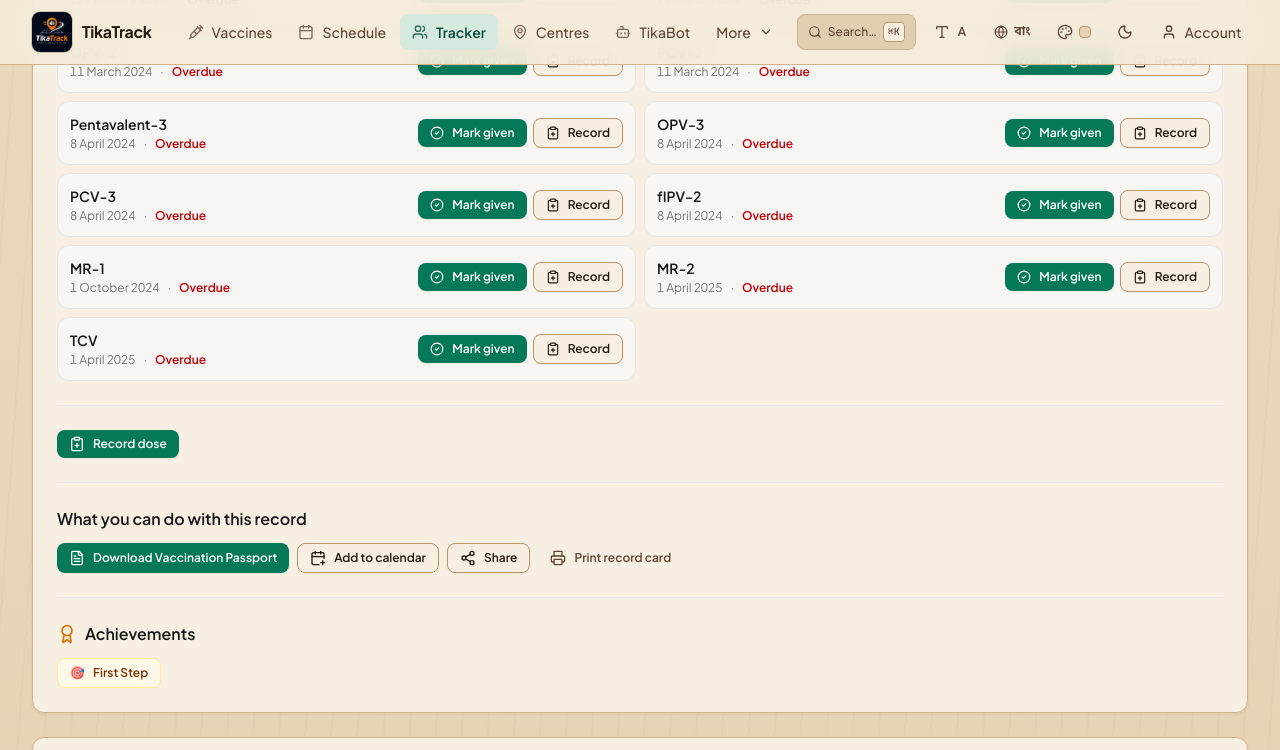
Test: recording a dose from the tracker › flags a second record claiming a dose that is already in the ledger
(page scrolled)
Click the button "Record dose" at x=118, y=444, box [57, 430, 179, 458]
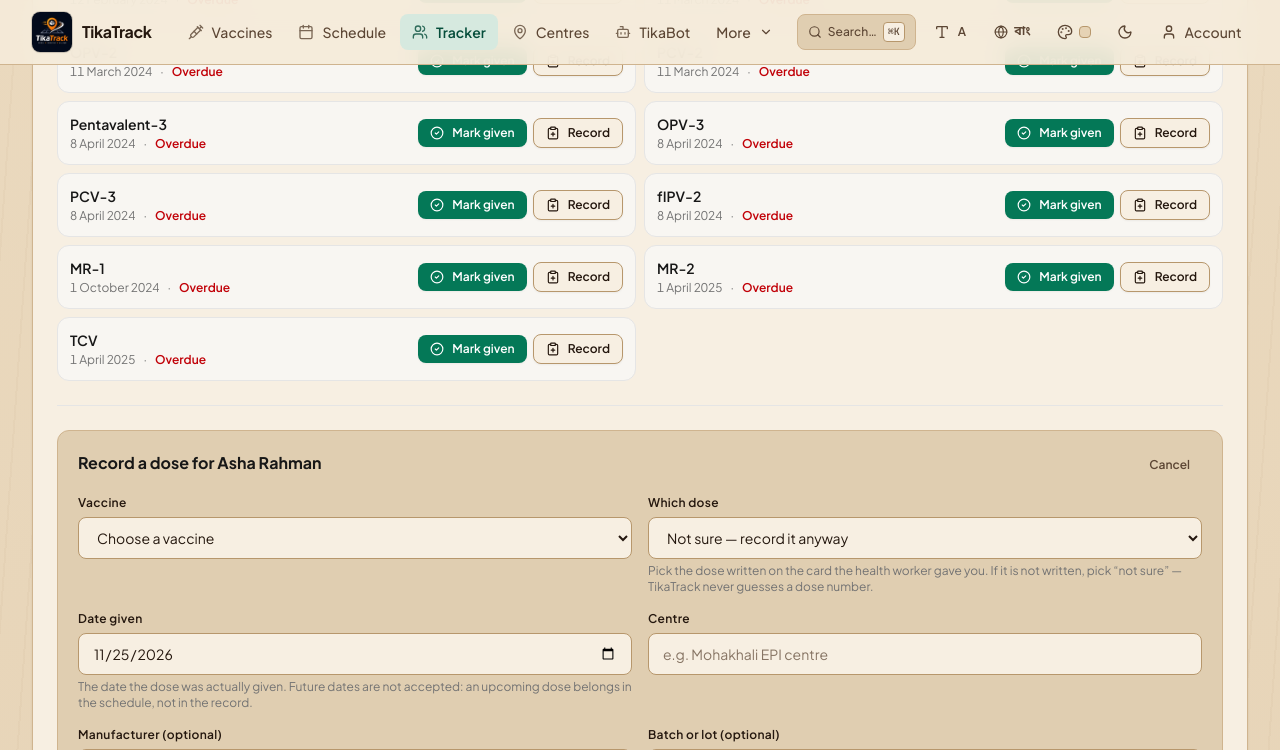
Select "OPV" in the dropdown with id "dose-vaccine" at x=355, y=538, box [78, 517, 632, 559]
Select "OPV-0 — already given on 1 January 2024" in the dropdown with id "dose-number" at x=925, y=538, box [648, 517, 1202, 559]
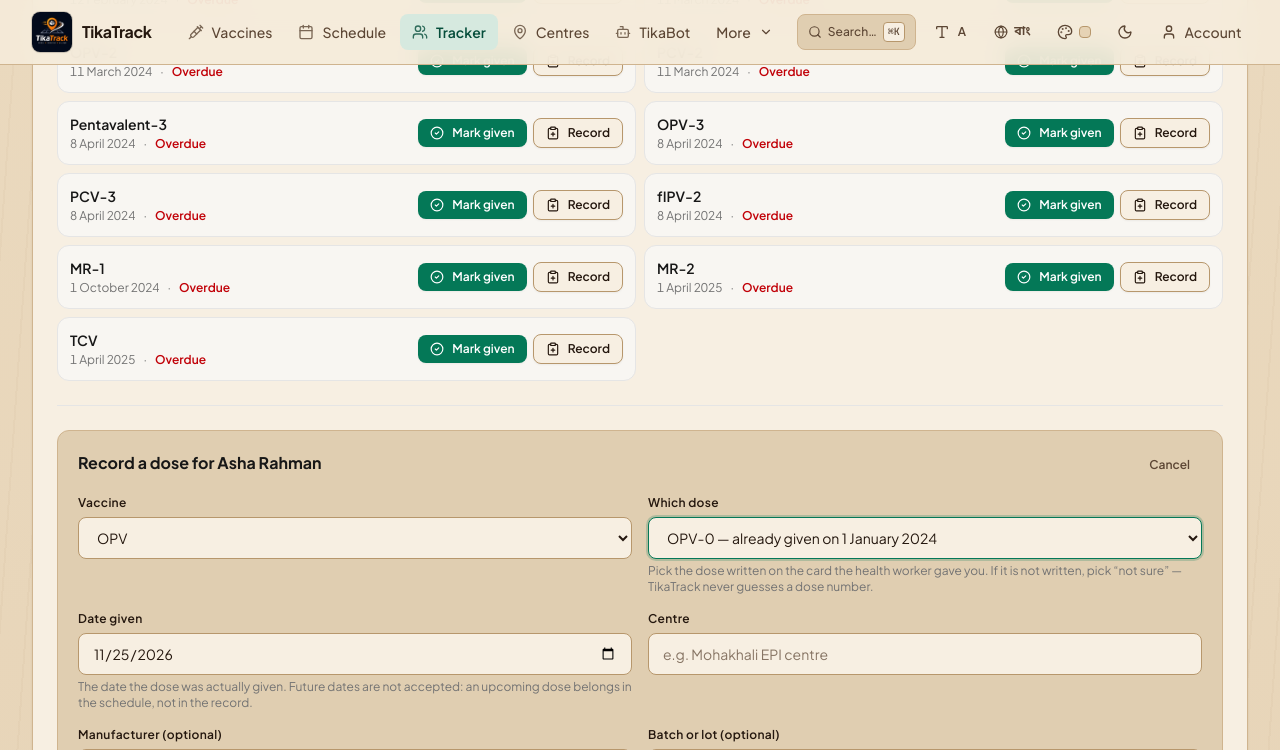
Select "OPV" in the dropdown with id "dose-vaccine" at x=355, y=538, box [78, 517, 632, 559]
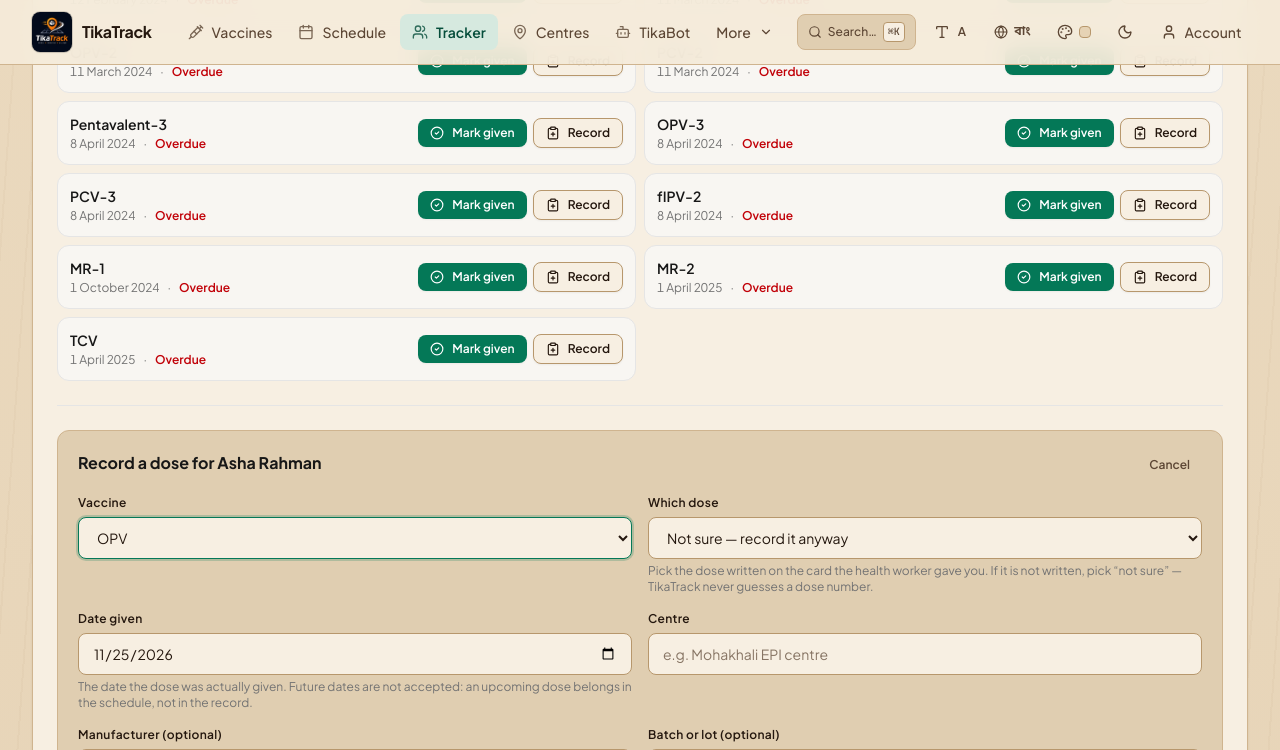
Select "OPV-0 — already given on 1 January 2024" in the dropdown with id "dose-number" at x=925, y=538, box [648, 517, 1202, 559]
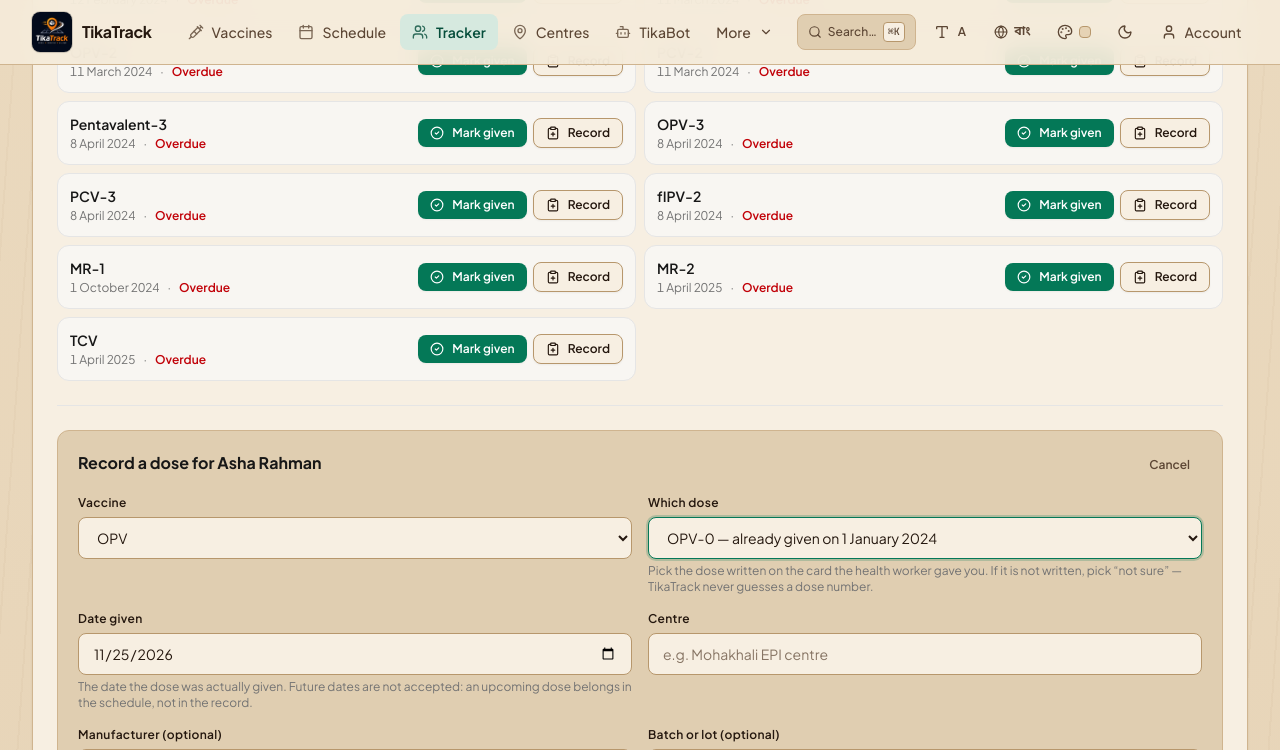
Type "2024-06-01" into the date field with id "dose-date" at x=355, y=654, box [78, 633, 632, 675]
(page scrolled)
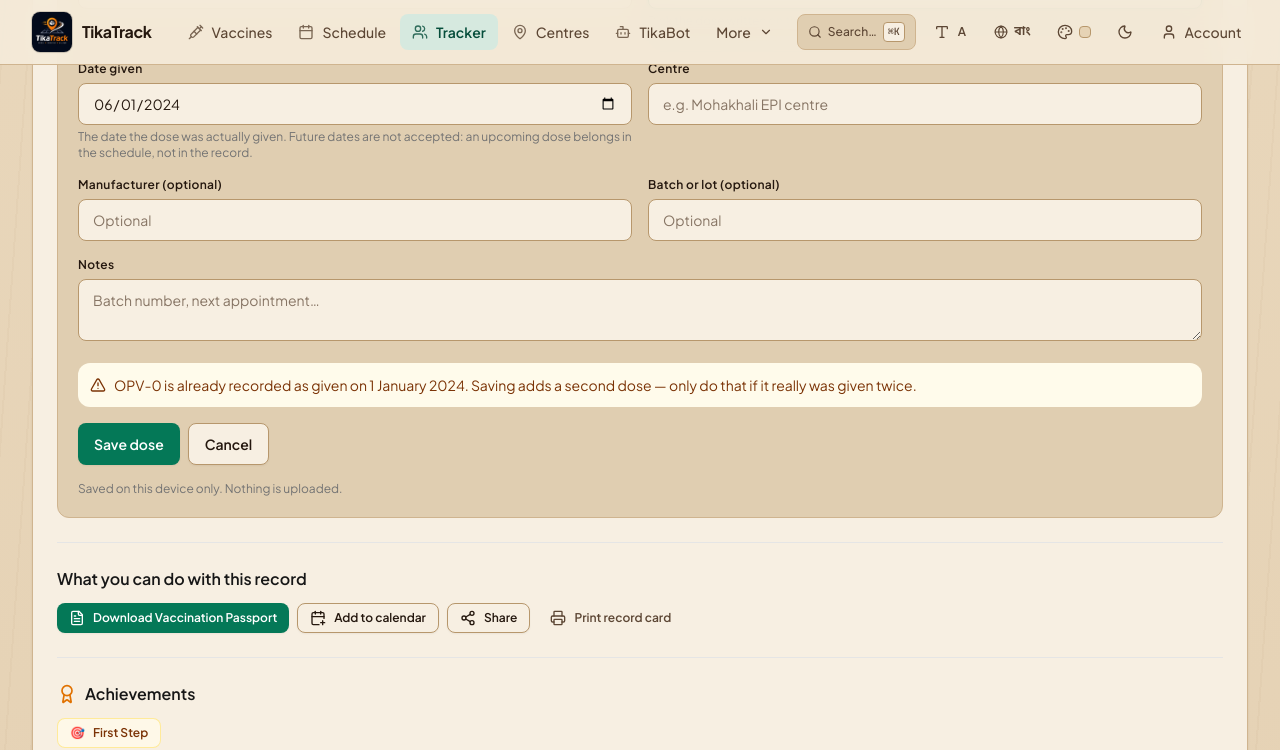
Click the button "Save dose" at x=129, y=444, box [78, 423, 180, 465]
(page scrolled)
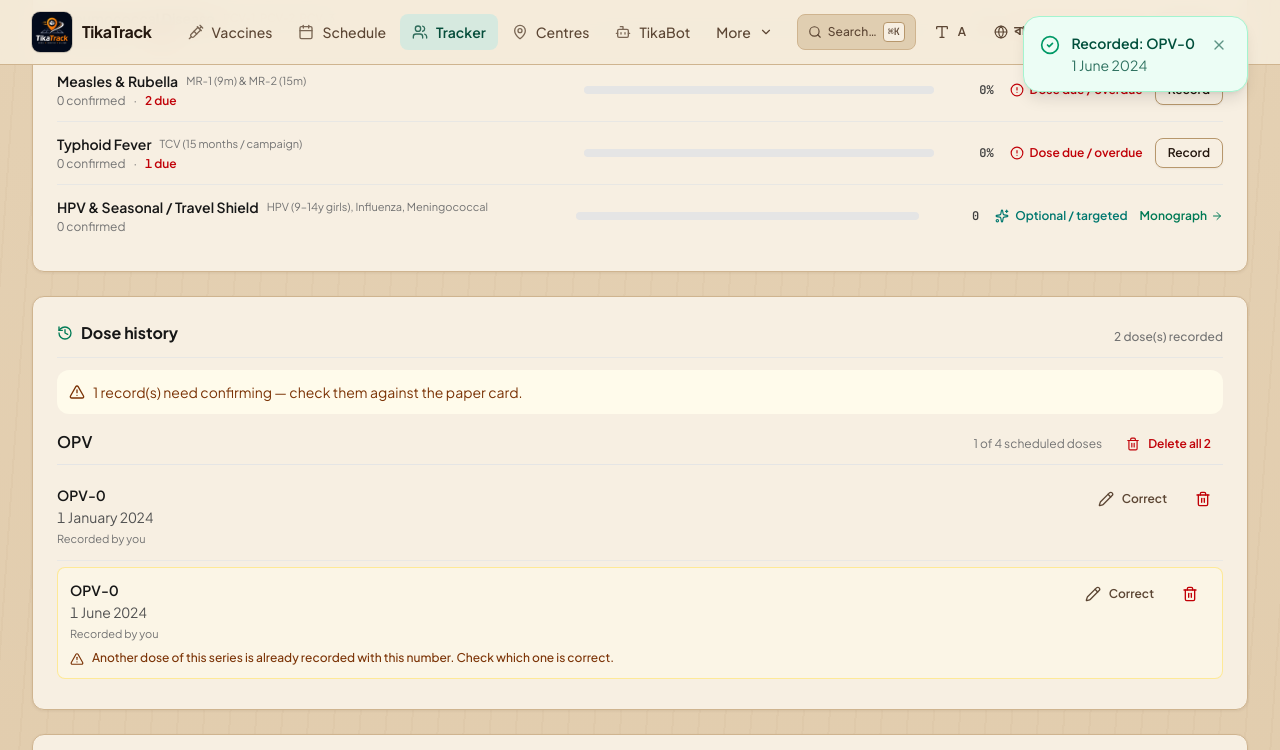
Check: the text "1 of 4 scheduled doses" is shown, box [974, 436, 1102, 452]
Check: the text "Another dose of this series is already recorded with this number. Check which one is correct." is shown, box [92, 650, 614, 665]
